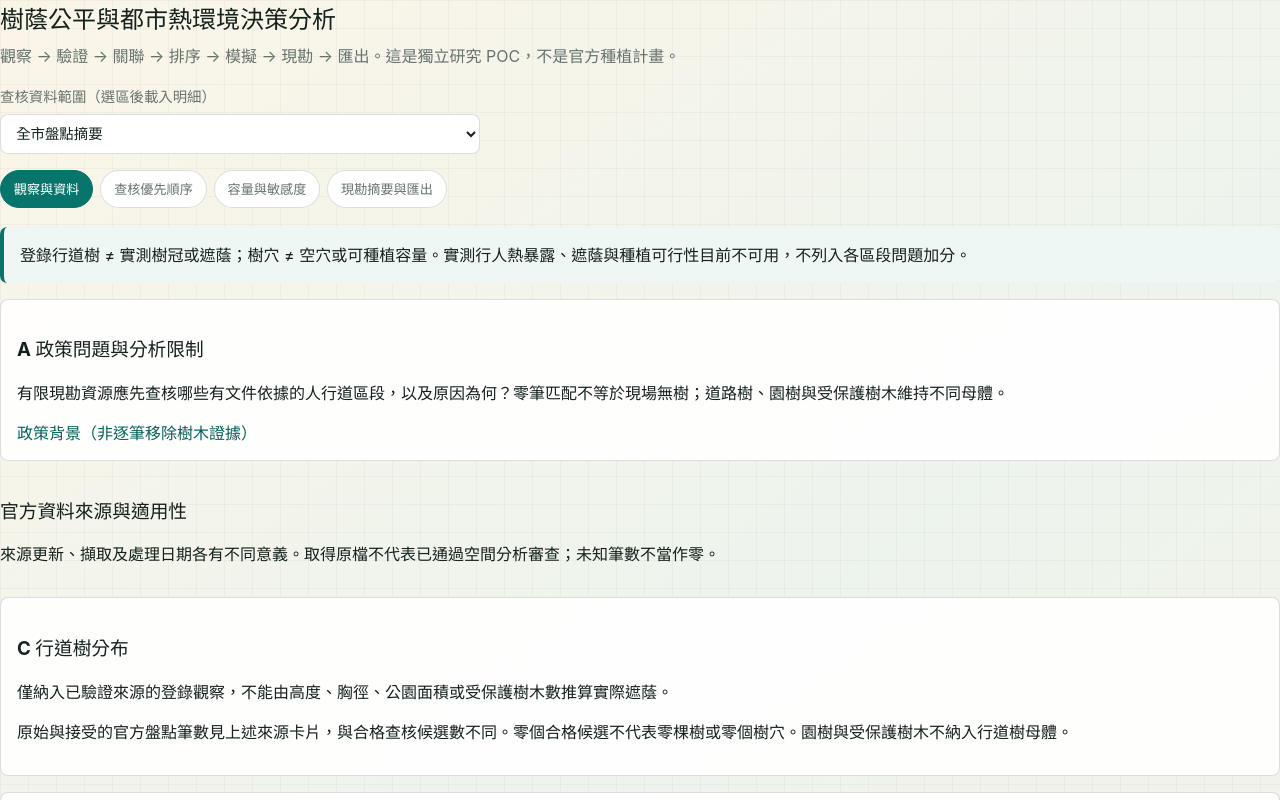
Test: shade equity dashboard › does not rank unavailable source data as a vegetation gap
What coordinates should you click on to do the following:
click the button "查核優先順序"
I would click on:
 (153, 189)
Its box is [100,170,207,208].
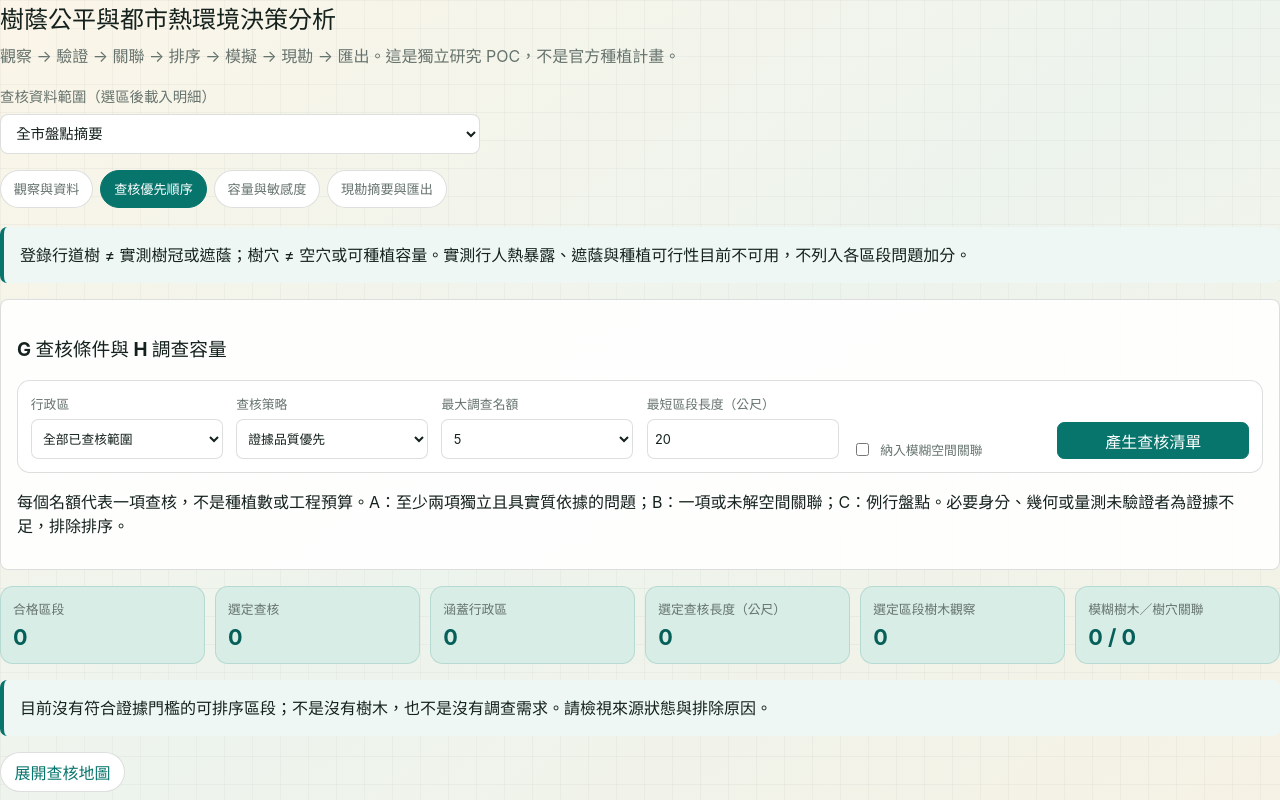
Result: the text "目前沒有符合證據門檻的可排序區段；不是沒有樹木，也不是沒有調查需求。請檢視來源狀態與排除原因。" is shown at [0,680,1279,736]
